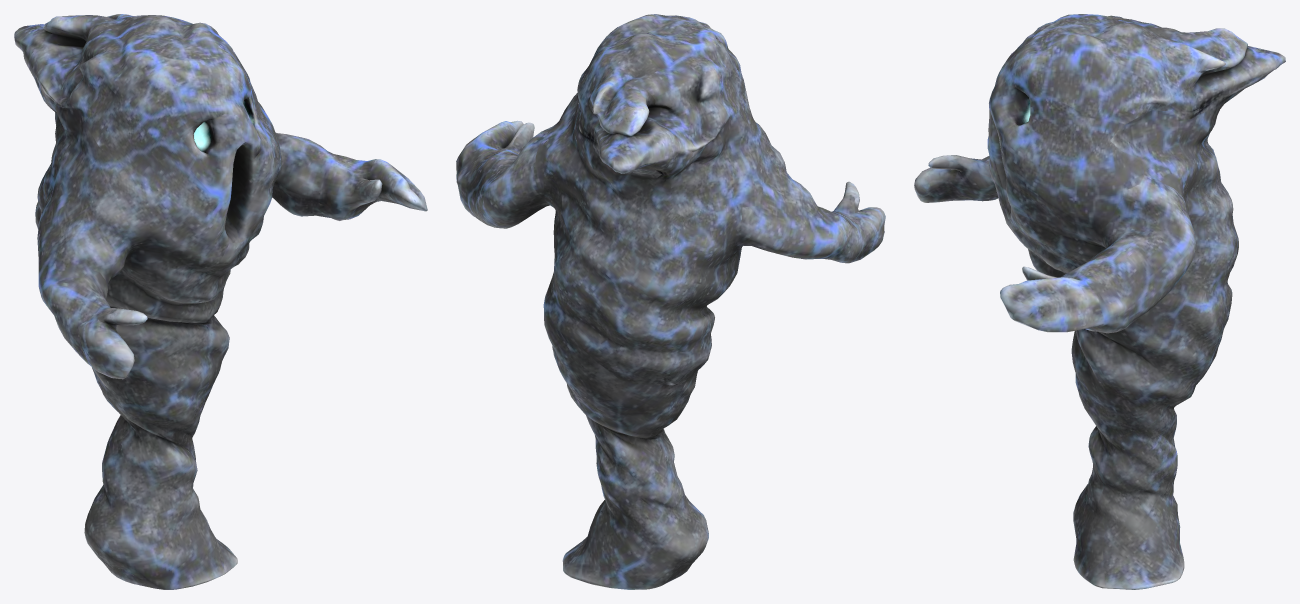
File: MZ4250 - Elemental, Air_alt.glb
3 views of the same model, side by side, from view 1: azimuth 30°, elevation 25°; view 2: azimuth 150°, elevation 25°; view 3: azimuth 270°, elevation 25° (orthographic). The views are drawn at different scales.
Parts seen in each view (by area): view 1: Air Elemental Sculpted.001; view 2: Air Elemental Sculpted.001; view 3: Air Elemental Sculpted.001.
Boxes of the visible parts, x1,y1,x2,y2 form: Air Elemental Sculpted.001: [14, 14, 427, 589]; Air Elemental Sculpted.001: [456, 14, 885, 589]; Air Elemental Sculpted.001: [914, 14, 1285, 589].
Size of the model in its own units: 49.61 by 68.78 by 43.62.
Materials: 1 (1 with a texture image).
